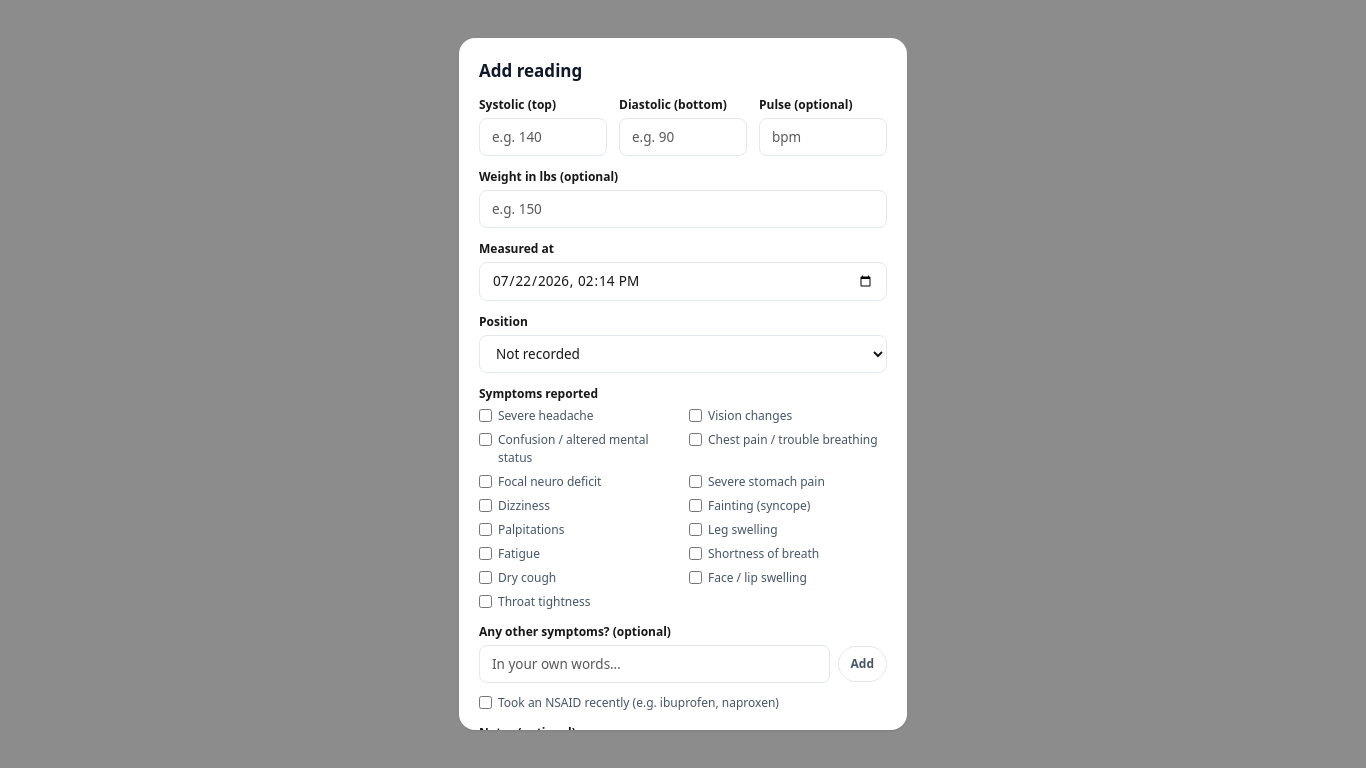
Test case: AddEditReadingModal — add mode + session flow › rejects a transposed reading (DBP >= SBP) client-side
Type "120" into the number field with test id "admin-reading-systolic" at (543, 137), box [479, 118, 607, 156]
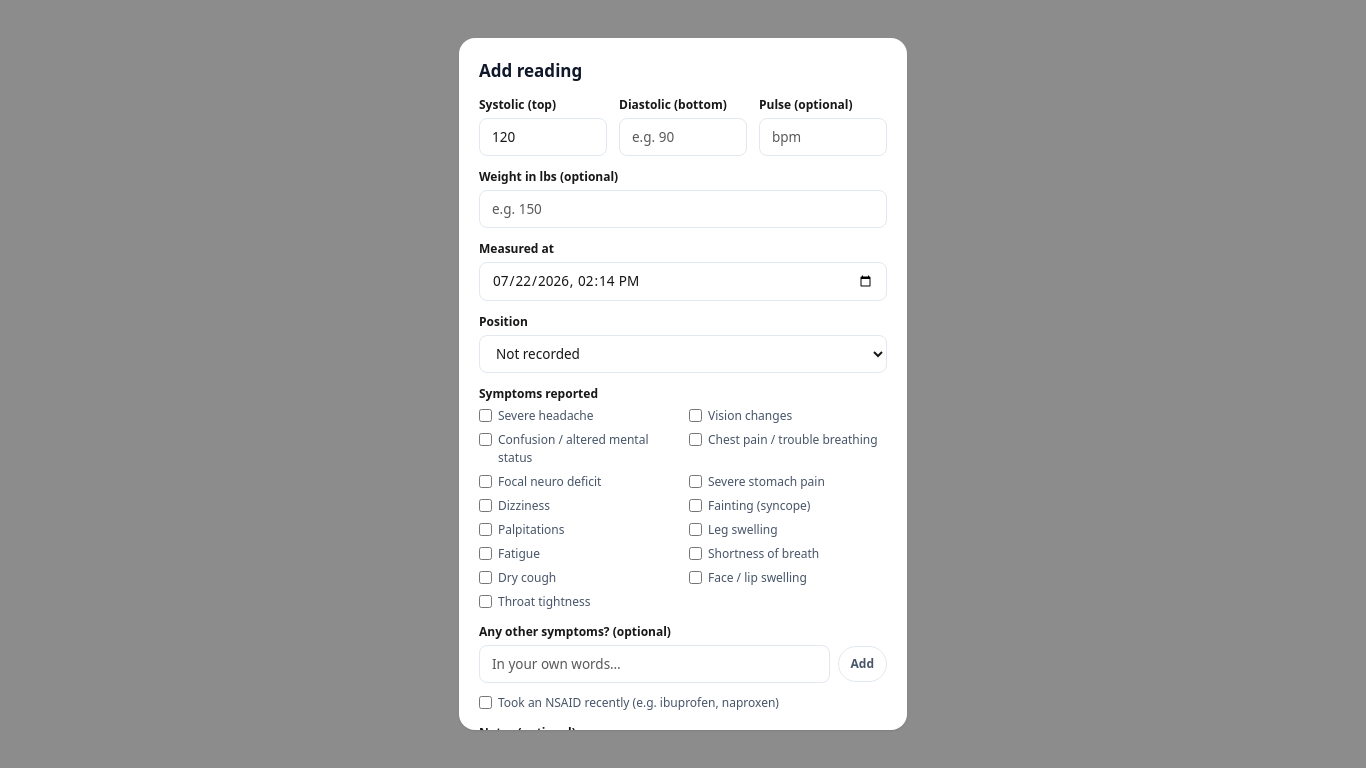
Type "140" into the number field with test id "admin-reading-diastolic" at (683, 137), box [619, 118, 747, 156]
(page scrolled)
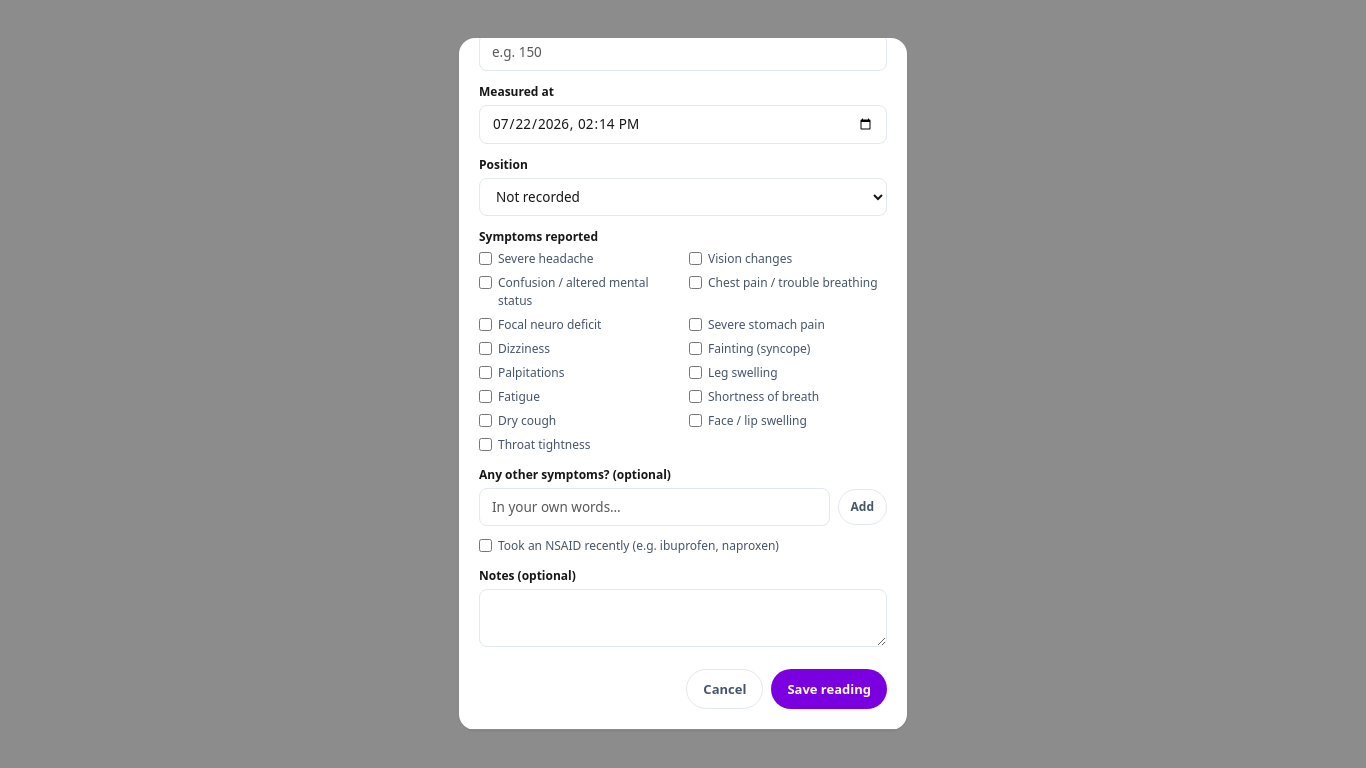
Click the button with test id "admin-reading-save" at (829, 689), box [771, 669, 887, 709]
(page scrolled)
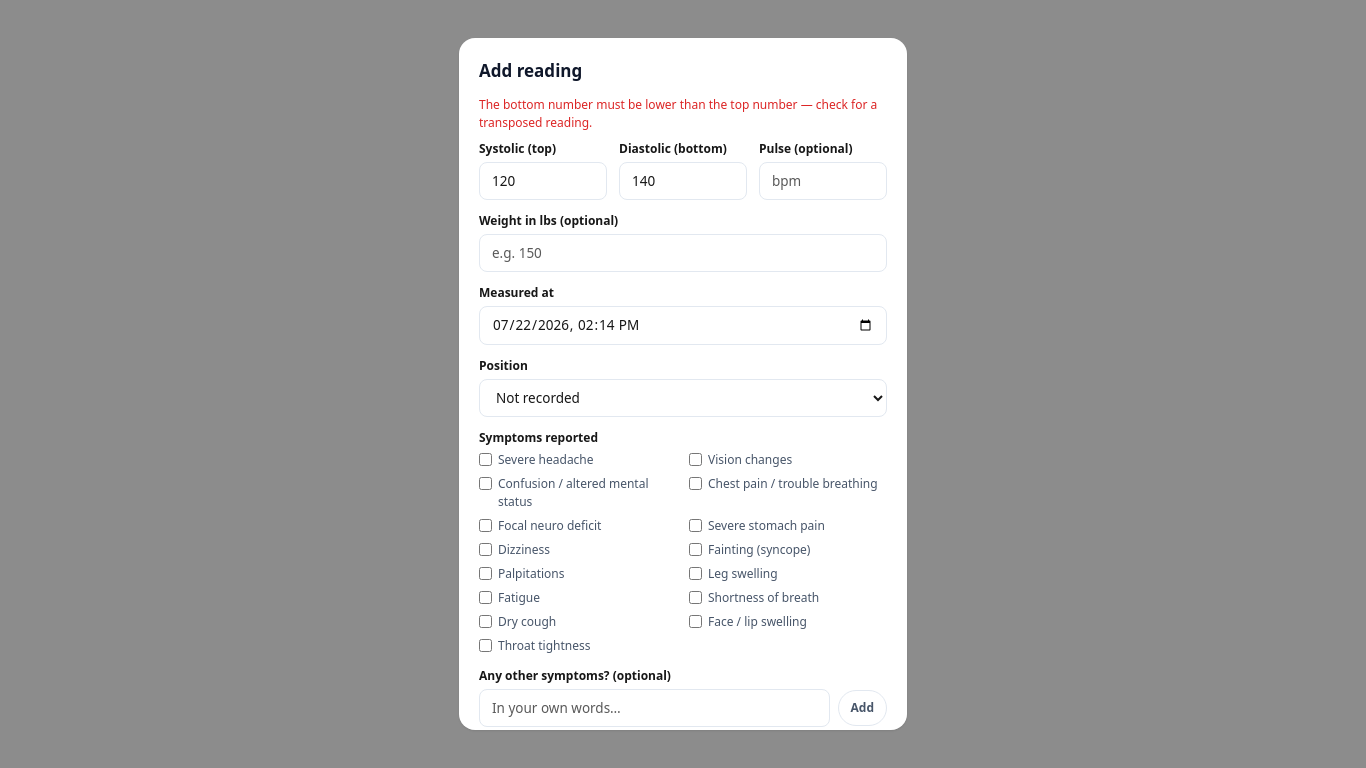
Result: the text with test id "admin-reading-modal-error" shows "bottom number must be lower" at [479, 96, 877, 131]
